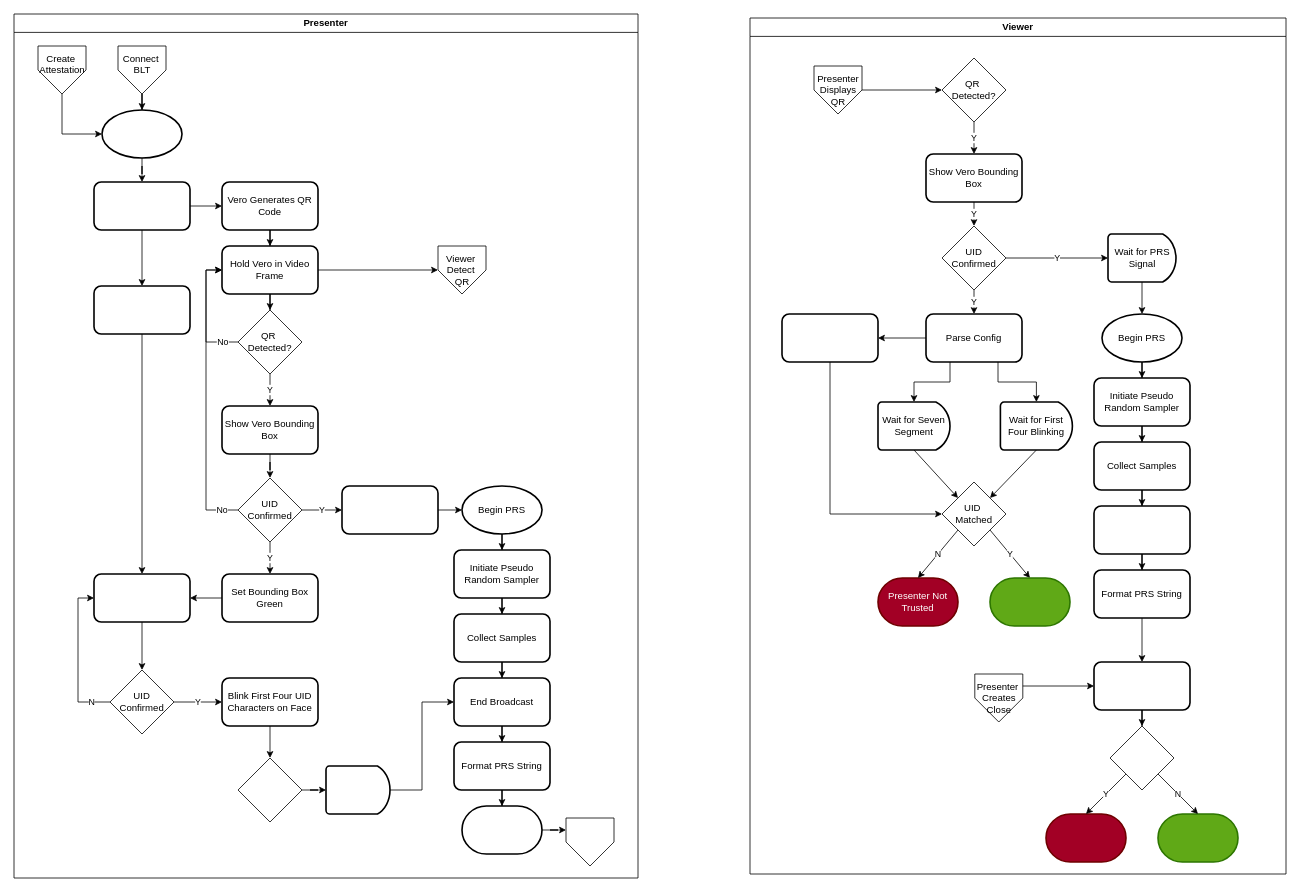
This 1300x892 diagram has some shape labels left out. Here are the shapes that lost their labels. From the top down, the box of each, then its label:
(101, 109, 182, 158): Initiate Vero Process
(93, 181, 190, 230): Pass UID & Config to Vero Device
(93, 285, 190, 334): Activate Seven Segment Display
(781, 313, 878, 362): Retrieve EAS Attestation Data
(341, 485, 438, 534): Signal PRS
(1093, 505, 1190, 554): End View
(93, 573, 190, 622): Hold Seven Segment Display in Bounding Box
(989, 577, 1070, 626): Presenter Trusted
(1093, 661, 1190, 710): Listen for Closing Attestation
(1109, 725, 1174, 790): PRS Matched
(237, 757, 302, 822): First Four Confirmed
(325, 765, 390, 814): Continue Broadcast
(461, 805, 542, 854): Create Closing Attestation
(565, 817, 614, 866): Viewer Listens
(1045, 813, 1126, 862): Video Not Trusted
(1157, 813, 1238, 862): Video Trusted
